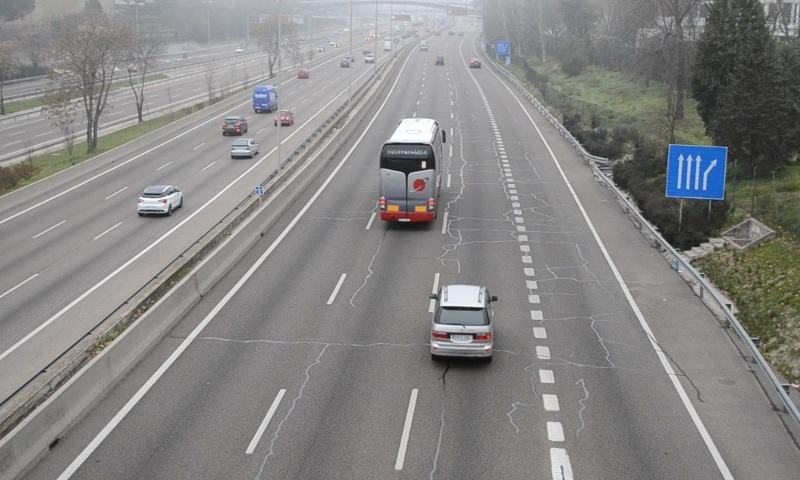bus: (380, 117, 444, 224)
car: (428, 284, 495, 359)
